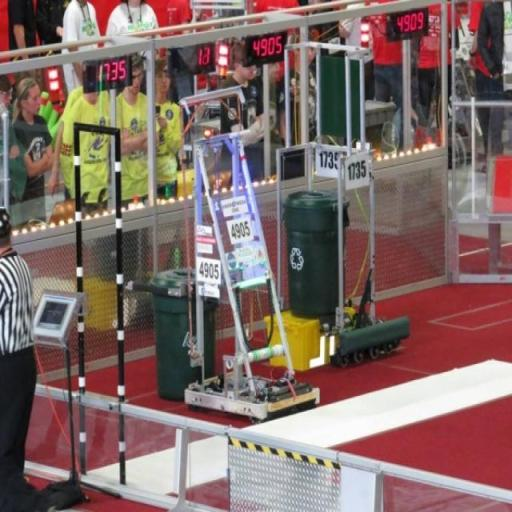robot: (174, 117, 324, 432), (291, 32, 420, 366)
